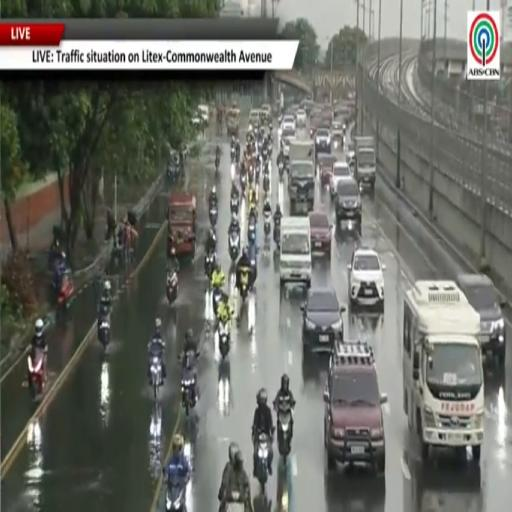car: (324, 341, 387, 473), (456, 274, 506, 366), (301, 288, 345, 353), (348, 247, 384, 310), (334, 179, 362, 226), (309, 212, 332, 258), (330, 162, 353, 197), (317, 154, 336, 186), (281, 130, 296, 160), (331, 120, 345, 149), (315, 127, 330, 154), (281, 114, 297, 131), (346, 141, 355, 167), (249, 109, 259, 131), (198, 105, 209, 125), (301, 100, 314, 115), (296, 109, 306, 126), (261, 104, 272, 118)
motorcycle: (27, 349, 44, 399), (54, 267, 74, 307), (277, 404, 291, 460), (256, 434, 270, 489), (166, 476, 186, 511), (182, 371, 196, 415), (150, 356, 162, 400), (98, 309, 110, 349), (218, 323, 230, 359), (225, 491, 246, 511), (167, 271, 178, 305), (204, 252, 215, 285), (229, 231, 240, 262), (240, 268, 248, 301), (212, 287, 221, 316), (248, 244, 257, 269), (209, 205, 218, 227), (264, 212, 272, 236), (255, 157, 262, 183), (273, 223, 280, 248), (230, 196, 239, 214), (263, 173, 270, 196), (240, 173, 247, 195), (248, 222, 255, 243), (248, 166, 254, 183), (262, 146, 268, 162), (215, 158, 220, 177), (279, 162, 284, 181), (236, 147, 240, 164), (231, 147, 235, 163)
truck: (403, 281, 484, 462), (288, 139, 315, 214), (354, 137, 376, 190), (290, 139, 314, 163)
